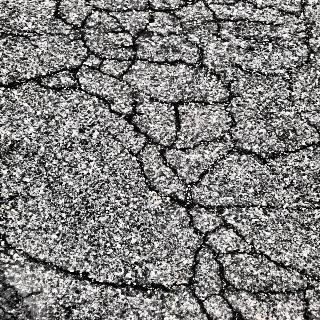alligator-crack: (41, 3, 314, 316)
